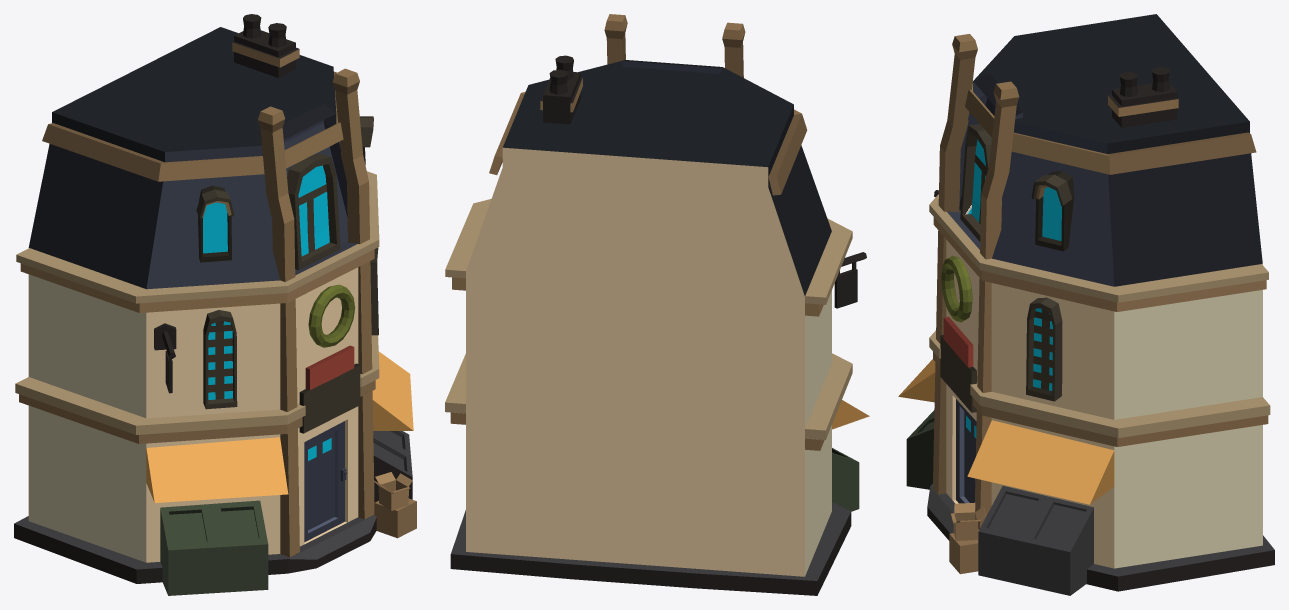
File: Market.gltf
3 renders of one model, left to right at view 1: azimuth 30°, elevation 25°; view 2: azimuth 150°, elevation 25°; view 3: azimuth 270°, elevation 25°, orthographic. The views are drawn at different scales.
Parts seen in each view (by area): view 1: house 1; view 2: house 1; view 3: house 1.
Boxes of the visible parts, bbox=[...] form: house 1: bbox=[14, 14, 416, 595]; house 1: bbox=[445, 14, 869, 595]; house 1: bbox=[898, 14, 1274, 595].
Bounding box in the file's own units: 6.25 × 7.31 × 5.32.
1 material, 1 textured.
